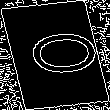O_E: (10, 30, 100, 80)
